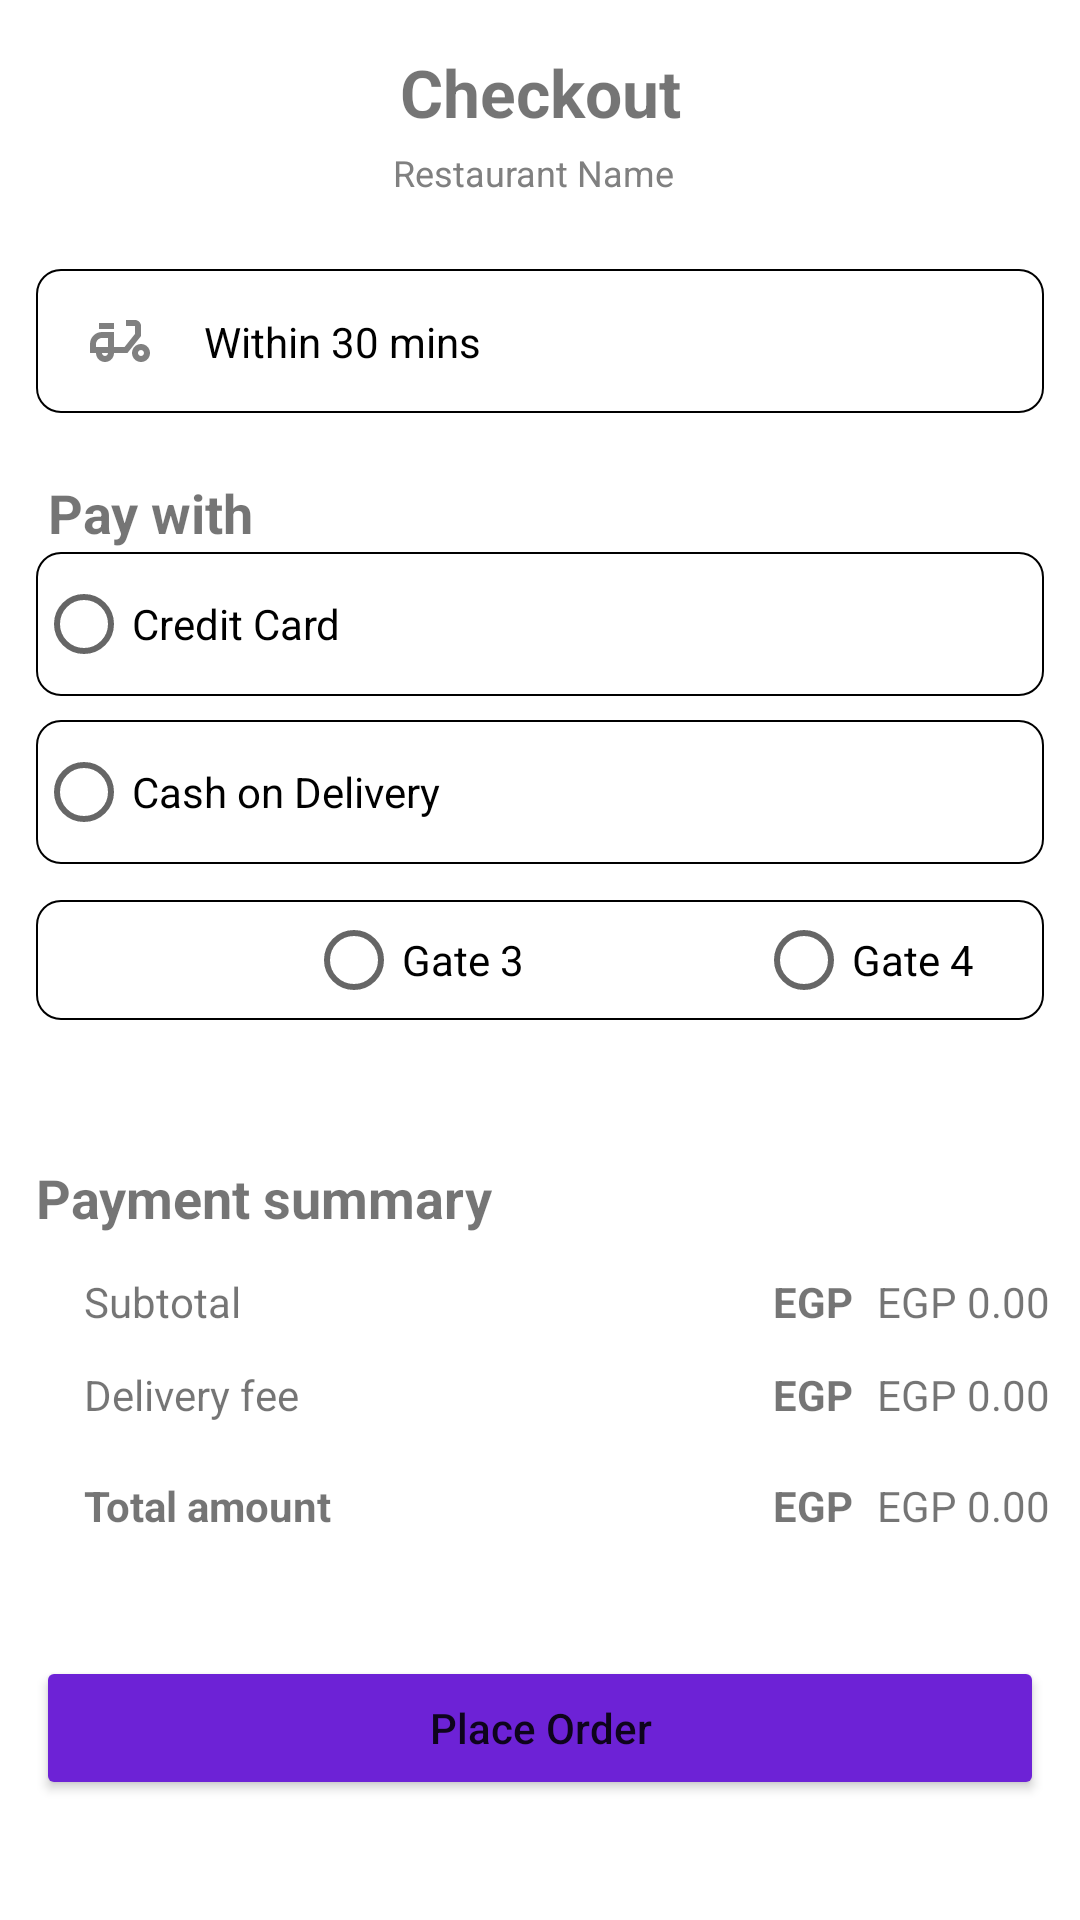

Where icons sit on this 1080px x 1920px app screen, as (x1, y1, x2, y2):
delivery: (90, 320, 150, 362)
